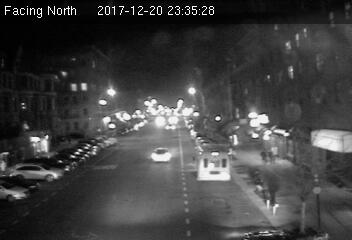car: (148, 146, 173, 163)
truck: (193, 146, 232, 184)
